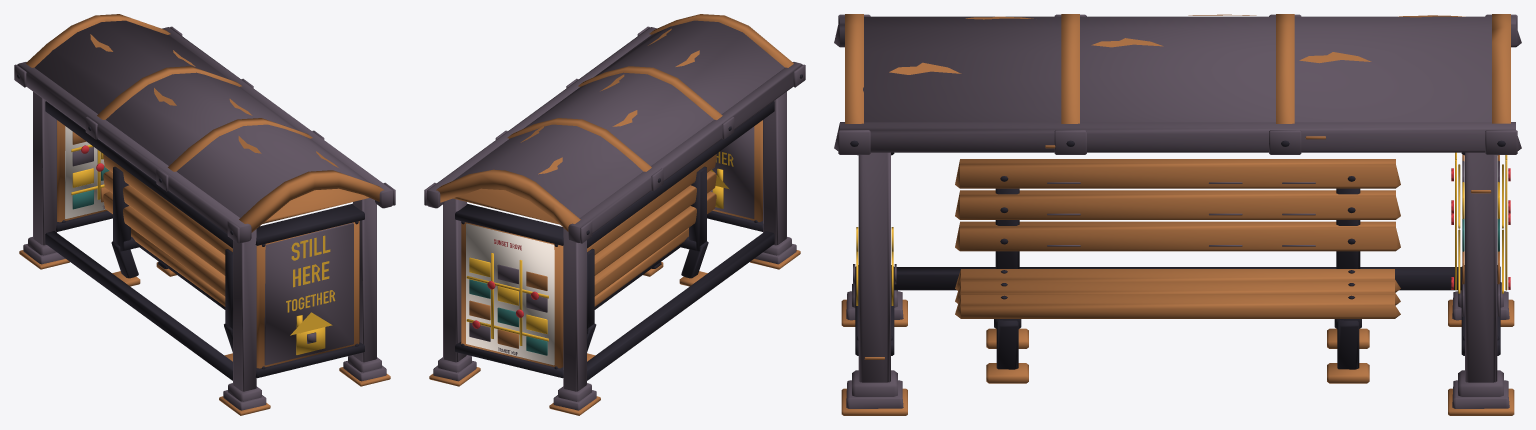
The picture shows the model from 3 angles, left to right: view 1: azimuth 30°, elevation 25°; view 2: azimuth 150°, elevation 25°; view 3: azimuth 270°, elevation 25°; orthographic projection. The views are drawn at different scales.
Visible parts, largest first — view 1: object 2, roof; view 2: object 2, roof; view 3: object 2, roof.
Boxes of the visible parts, left/top/right/bottom form: object 2: left=19, top=92, right=390, bottom=415; roof: left=14, top=14, right=395, bottom=243; object 2: left=429, top=92, right=800, bottom=415; roof: left=424, top=14, right=805, bottom=243; object 2: left=841, top=152, right=1514, bottom=415; roof: left=834, top=14, right=1521, bottom=154.
Size of the model in its own units: 2.04 by 2.68 by 4.97.
